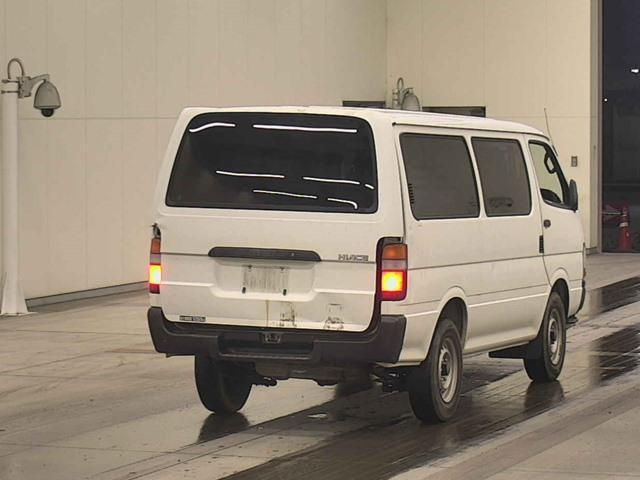Van: (147, 105, 586, 416)
